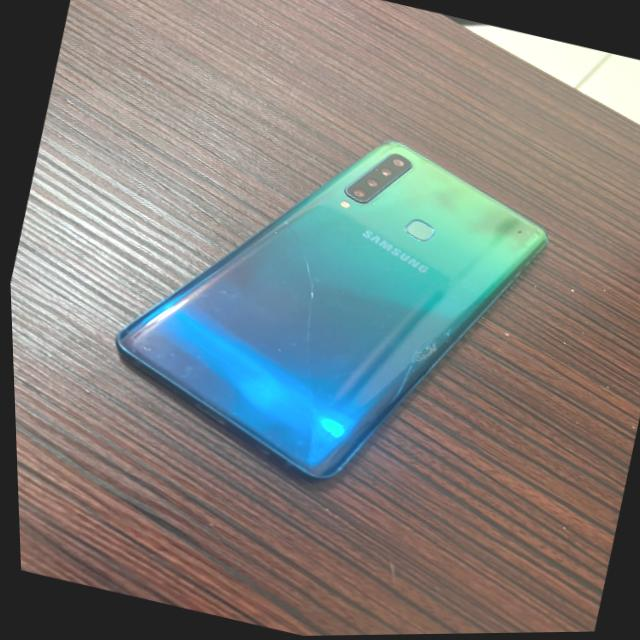Smartphone: (113, 142, 545, 480)
